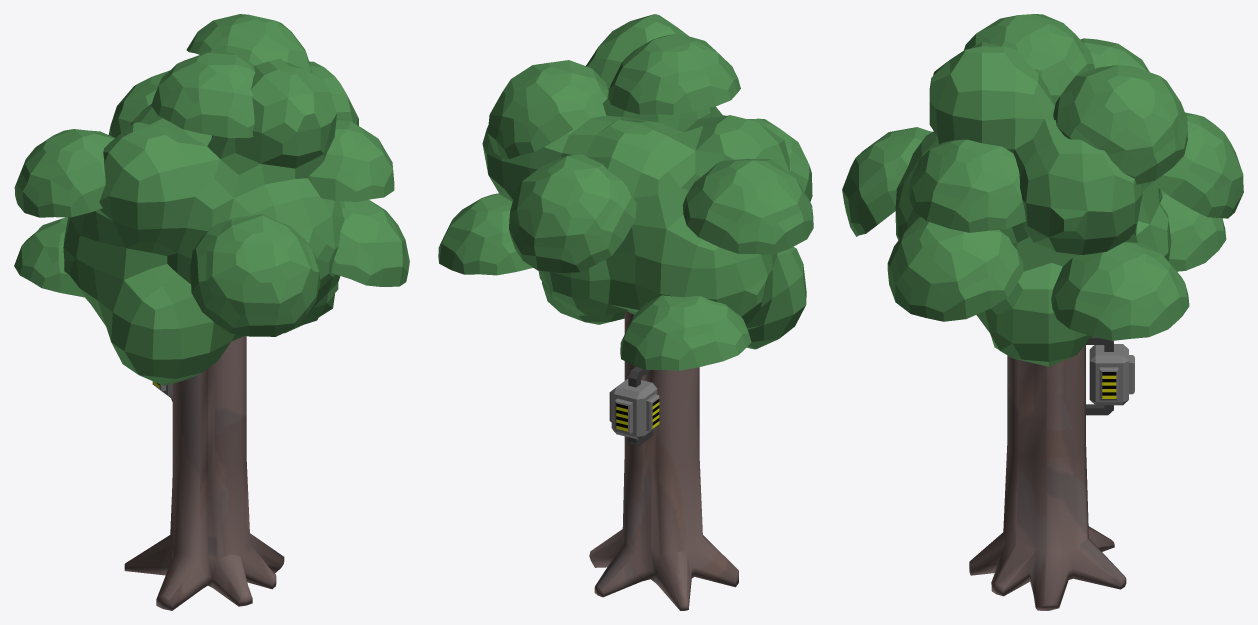
Rendered from robot_bee_tree.glb.
3 renders of one model, left to right at view 1: azimuth 30°, elevation 25°; view 2: azimuth 150°, elevation 25°; view 3: azimuth 270°, elevation 25°, orthographic. The views are drawn at different scales.
Visible parts, largest first — view 1: leaves.001, trunk; view 2: leaves.001, trunk, Cube; view 3: leaves.001, trunk, Cube.
Part boxes in pixels (left/top/right/bottom): leaves.001: left=14, top=14, right=409, bottom=385; trunk: left=124, top=336, right=284, bottom=610; leaves.001: left=438, top=14, right=813, bottom=370; trunk: left=589, top=311, right=738, bottom=610; Cube: left=609, top=367, right=659, bottom=445; leaves.001: left=842, top=14, right=1243, bottom=366; trunk: left=969, top=344, right=1126, bottom=610; Cube: left=1085, top=336, right=1134, bottom=415.
Size of the model in its own units: 7.82 by 11.55 by 7.55.
6 materials, 1 textured.
